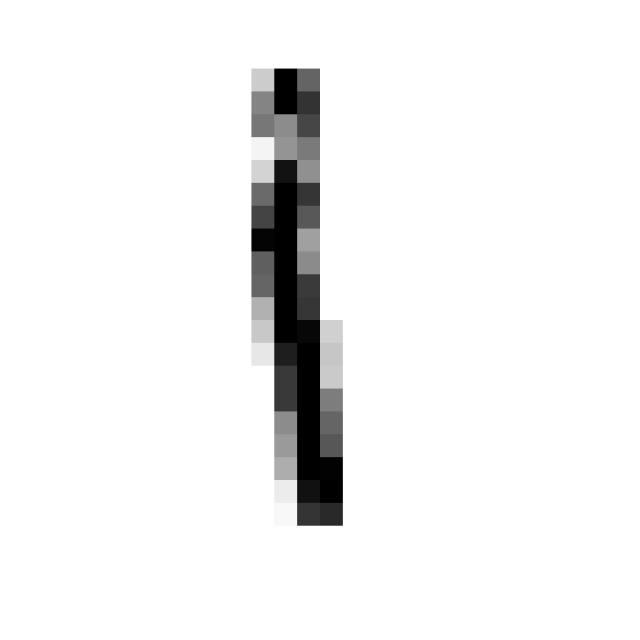1 -one-: (215, 48, 375, 550)
